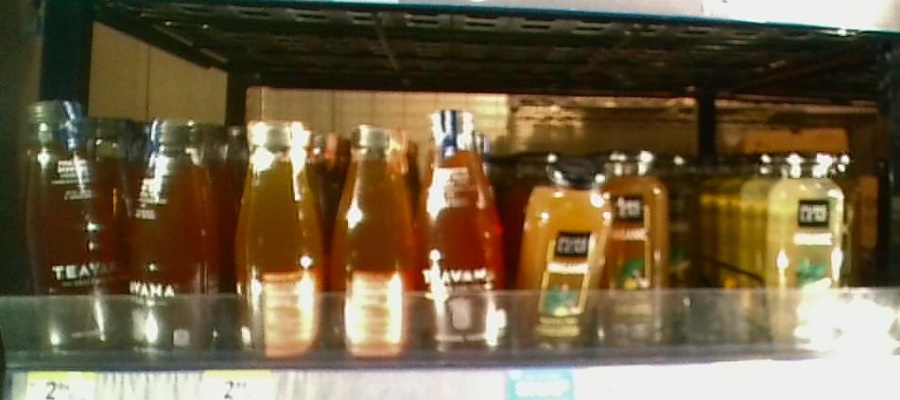bottle: (17, 95, 118, 365), (125, 114, 221, 365), (229, 115, 324, 365), (419, 109, 508, 364), (329, 115, 413, 363), (519, 152, 611, 357), (771, 146, 847, 351), (614, 149, 670, 356)
